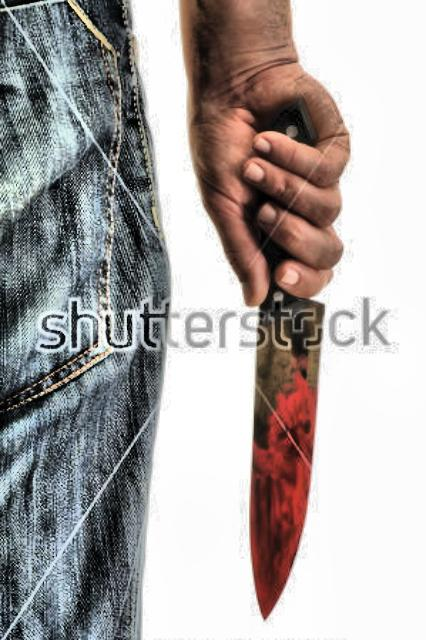knife: (218, 174, 350, 632)
